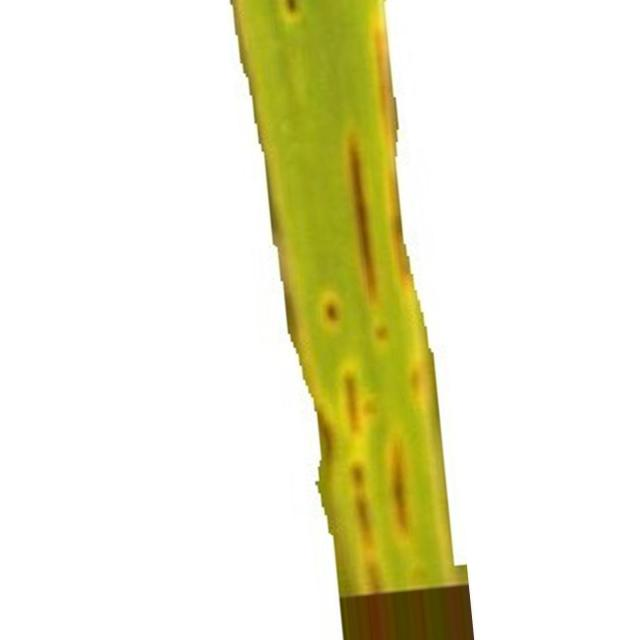Brown_Spot: (346, 138, 379, 300), (341, 465, 381, 594), (338, 370, 369, 434), (394, 460, 411, 532), (320, 299, 344, 329), (280, 0, 299, 22), (376, 325, 389, 342)
